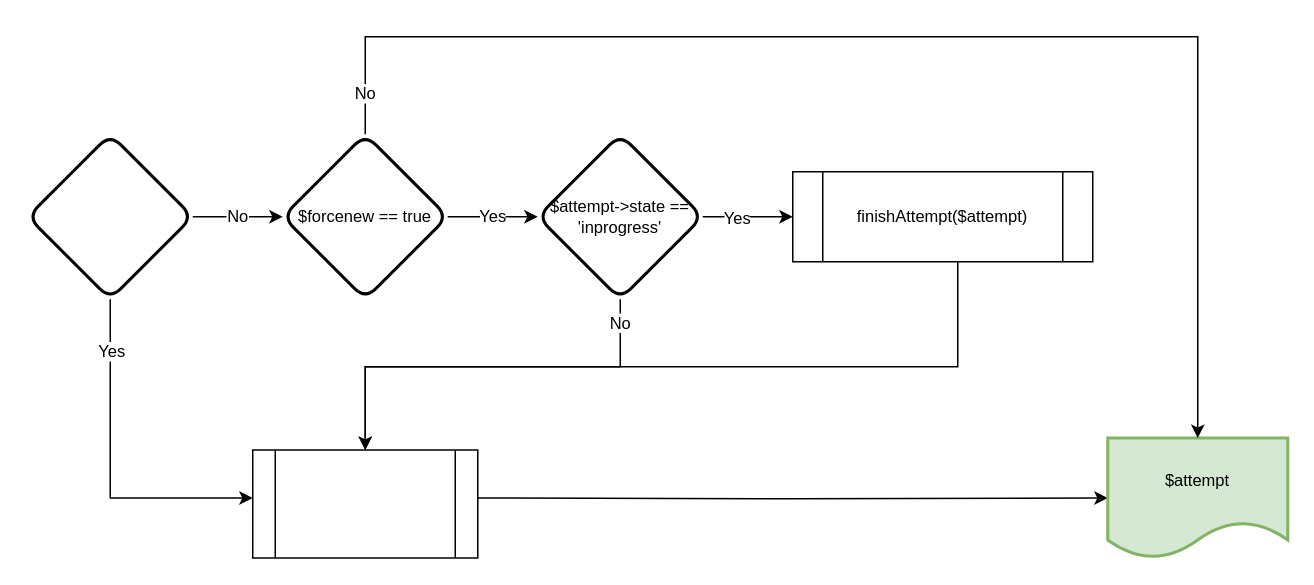
Image size: 1314x585. Some labels were removed from this diagram. The centre of each missing label's shape, as x and y in pixels:
Is Attempt Null ?: the point at 110,216
startAttempt($userid, $quizobj): the point at 364,503
